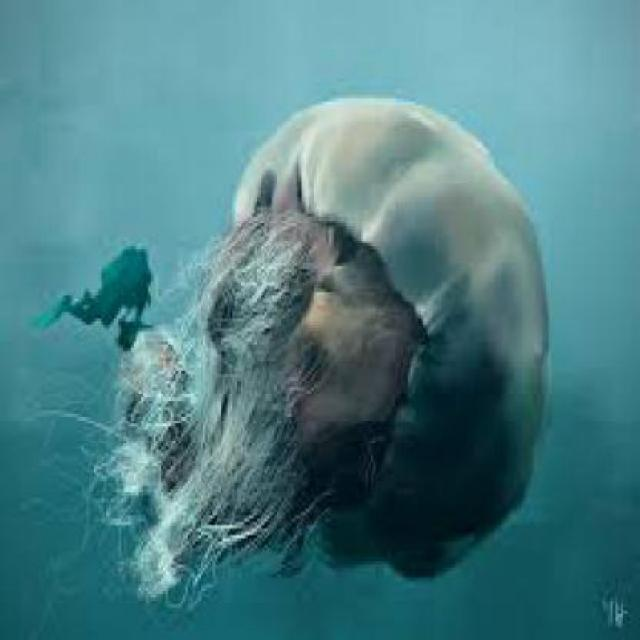Jellyfish: (57, 85, 551, 613)
